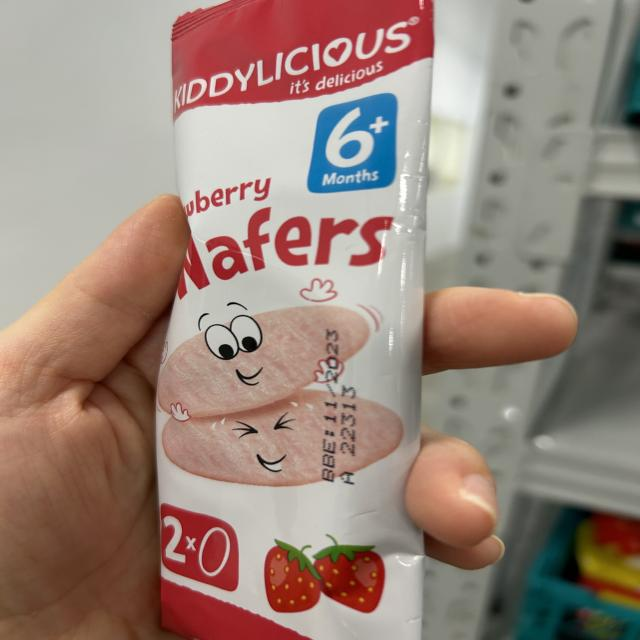object_name: (174, 21, 396, 640)
